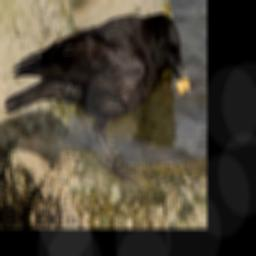Crow: (3, 2, 190, 185)
